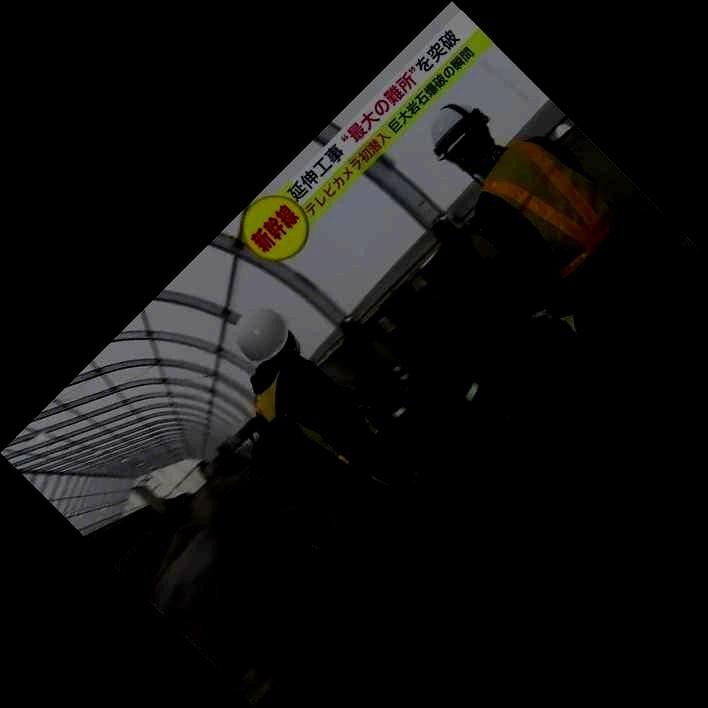helmet: (430, 101, 496, 173), (233, 306, 302, 361)
